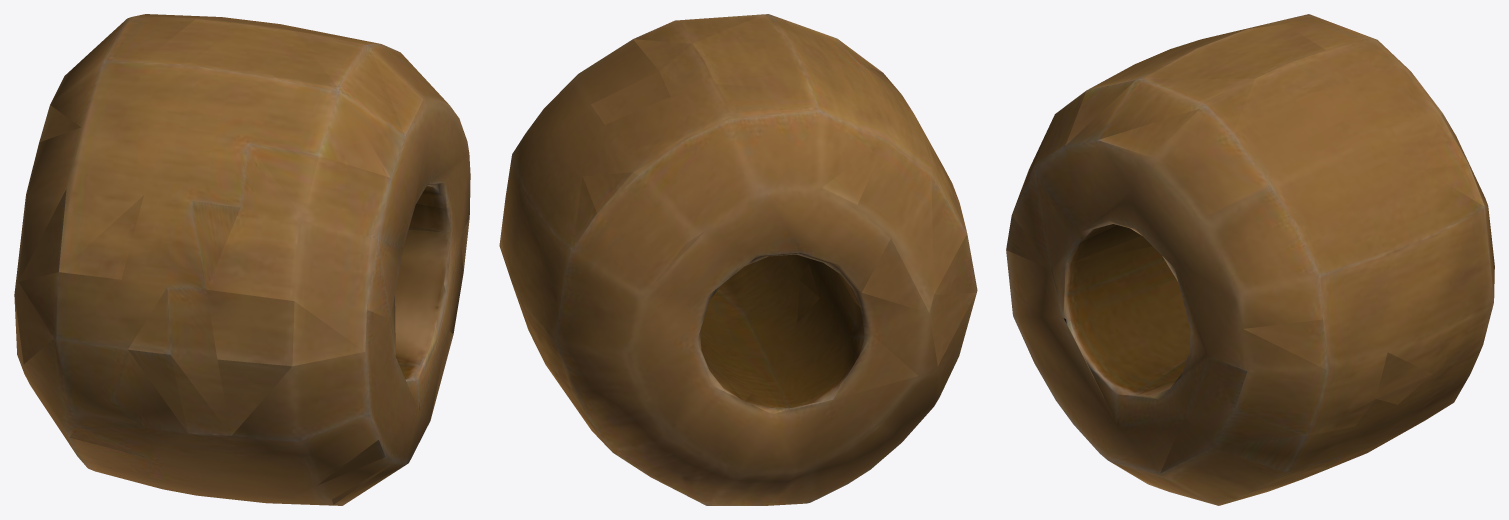
The model's file is abacus_beads.glb.
3 renders of one model, left to right at view 1: azimuth 30°, elevation 25°; view 2: azimuth 150°, elevation 25°; view 3: azimuth 270°, elevation 25°, orthographic. The views are drawn at different scales.
Parts seen in each view (by area): view 1: tripo_node_d30a6721-db0f-4fa0-a4c9-bfca454a2e26; view 2: tripo_node_d30a6721-db0f-4fa0-a4c9-bfca454a2e26; view 3: tripo_node_d30a6721-db0f-4fa0-a4c9-bfca454a2e26.
Boxes of the visible parts, x1,y1,x2,y2 form: tripo_node_d30a6721-db0f-4fa0-a4c9-bfca454a2e26: (14,14,470,505); tripo_node_d30a6721-db0f-4fa0-a4c9-bfca454a2e26: (499,14,977,505); tripo_node_d30a6721-db0f-4fa0-a4c9-bfca454a2e26: (1006,14,1494,505).
Bounding box in the file's own units: 0.9919 × 0.9434 × 1.
Materials: 1 (1 with a texture image).
